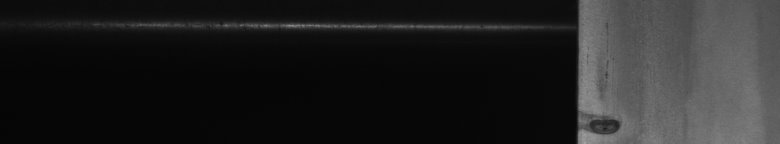hb: (588, 23, 629, 136)
